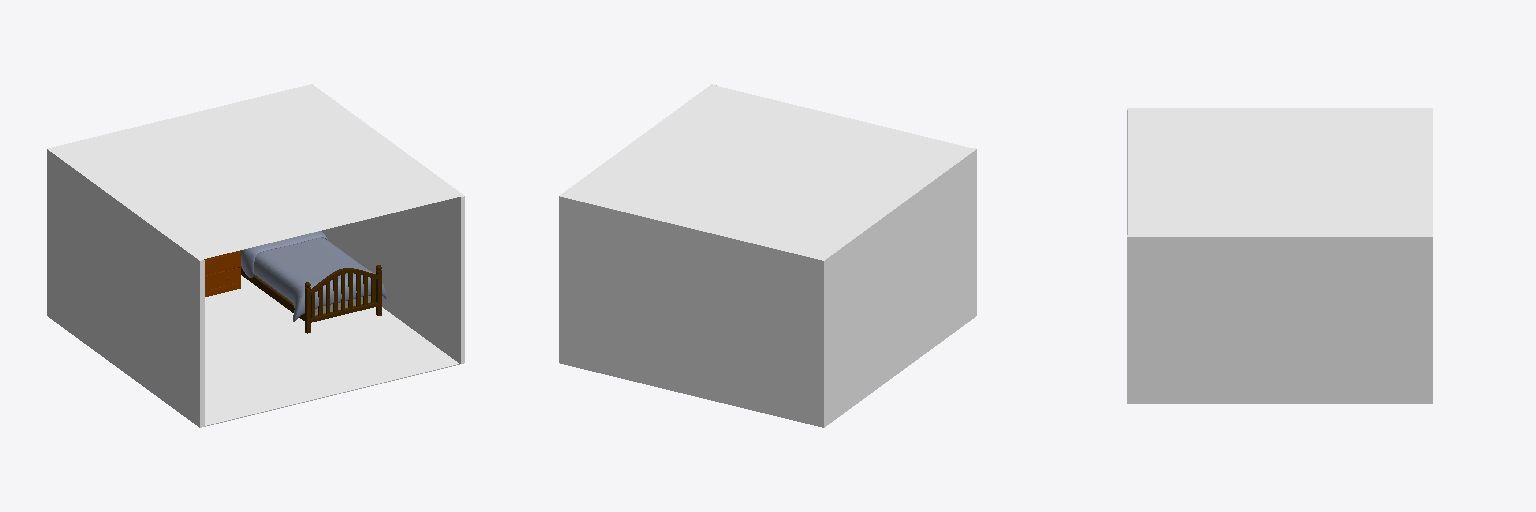
Rendered from Habitacion.obj.
3 renders of one model, left to right at view 1: azimuth 30°, elevation 25°; view 2: azimuth 150°, elevation 25°; view 3: azimuth 270°, elevation 25°, orthographic.
Parts seen in each view (by area): view 1: room_4_21, wall_1_4, room_4_20, wall_3_17, Plane_33, 29, 28, sweethome3d_opening_on_rail_4_drawer_50, Cube_26, sweethome3d_opening_on_rail_3_drawer_49; view 2: wall_2_10, room_4_21, wall_1_4; view 3: wall_3_16, room_4_21.
Boxes of the visible parts, <box> form: room_4_21: <box>51,87,460,259</box>; wall_1_4: <box>47,149,201,427</box>; room_4_20: <box>205,275,458,425</box>; wall_3_17: <box>321,197,462,363</box>; Plane_33: <box>241,231,386,321</box>; 29: <box>311,273,375,317</box>; 28: <box>311,268,377,322</box>; sweethome3d_opening_on_rail_4_drawer_50: <box>205,267,239,290</box>; Cube_26: <box>305,270,381,333</box>; sweethome3d_opening_on_rail_3_drawer_49: <box>205,252,239,275</box>; wall_2_10: <box>559,196,823,427</box>; room_4_21: <box>567,86,971,258</box>; wall_1_4: <box>824,149,976,427</box>; wall_3_16: <box>1127,237,1432,403</box>; room_4_21: <box>1128,110,1428,234</box>.
Bounding box in the file's own units: 416 × 250 × 416.